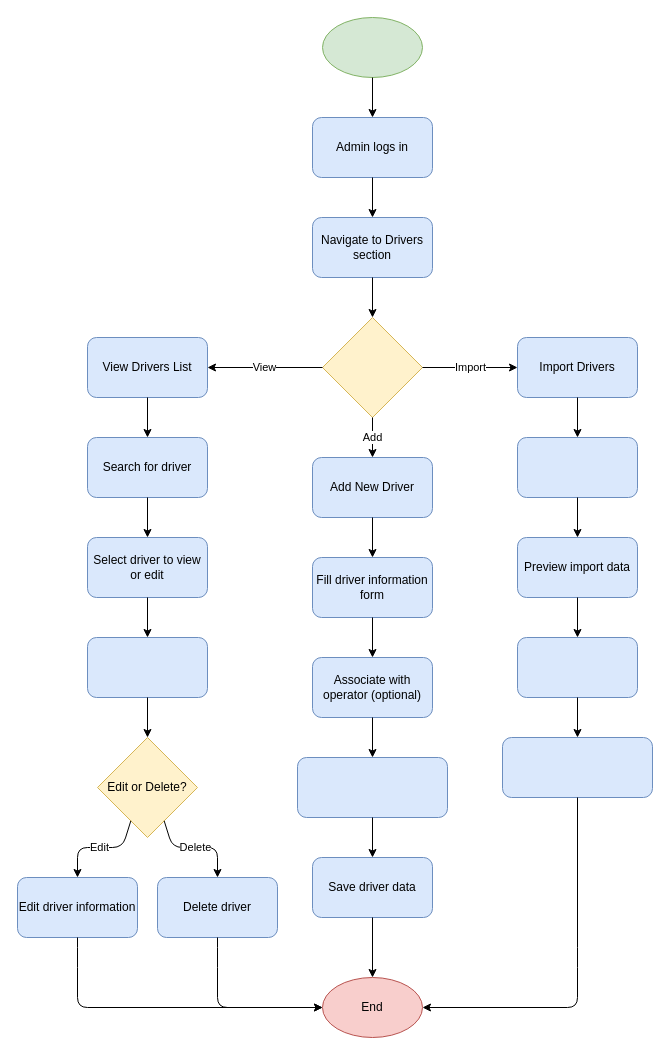
The diagram is 670 pixels wide and 1055 high, and some of its shapes have lost their labels. The shapes that lost their labels are listed below. From the top down, each one's centre as x and y in pixels, then its label:
At (372,47): "Start".
At (372,367): "Select action".
At (577,467): "Upload Excel file with driver data".
At (147,667): "View driver details".
At (577,667): "Confirm import".
At (372,787): "System validates driver information".
At (577,767): "System processes and saves imported drivers".
